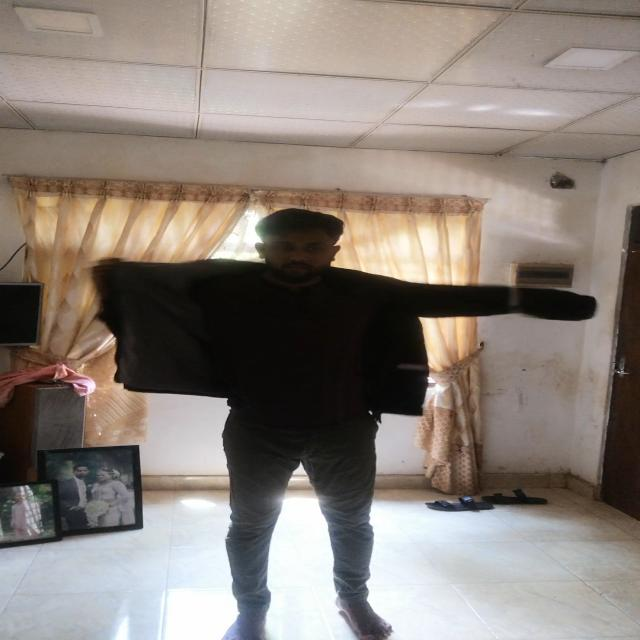Jacket_Wearer: (99, 249, 590, 443)
Person: (94, 192, 586, 640)
